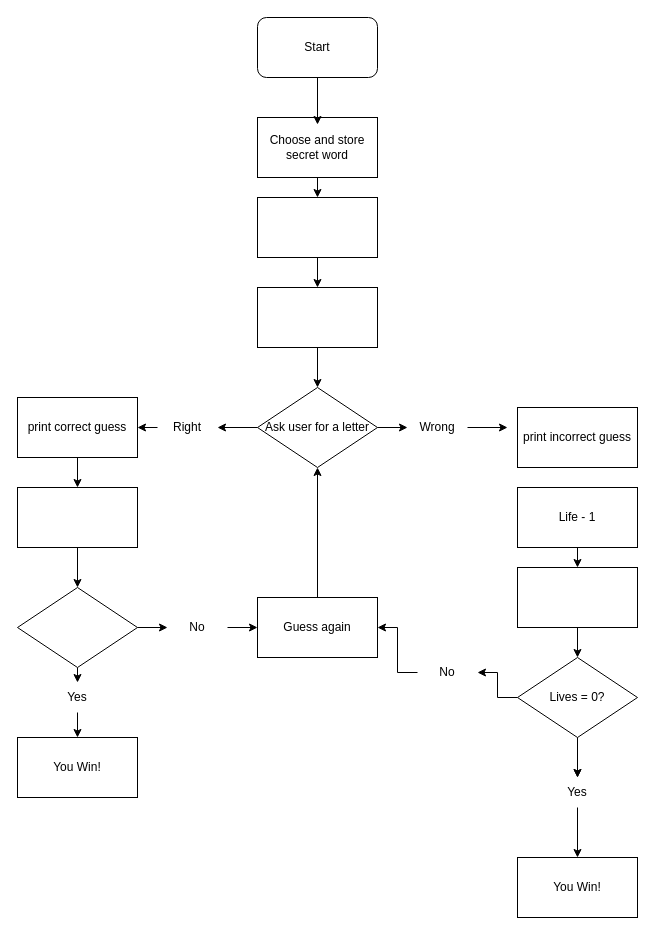
The diagram is 655 pixels wide and 935 high, and some of its shapes have lost their labels. The shapes that lost their labels are listed below. From the top down, each one's centre as x and y in pixels, then its label:
At (317,227): "Print welcome message".
At (317,317): "print _ for each letter in secret word".
At (77,517): "update letters _".
At (577,597): "update ascii".
At (77,627): "Word complete?".
